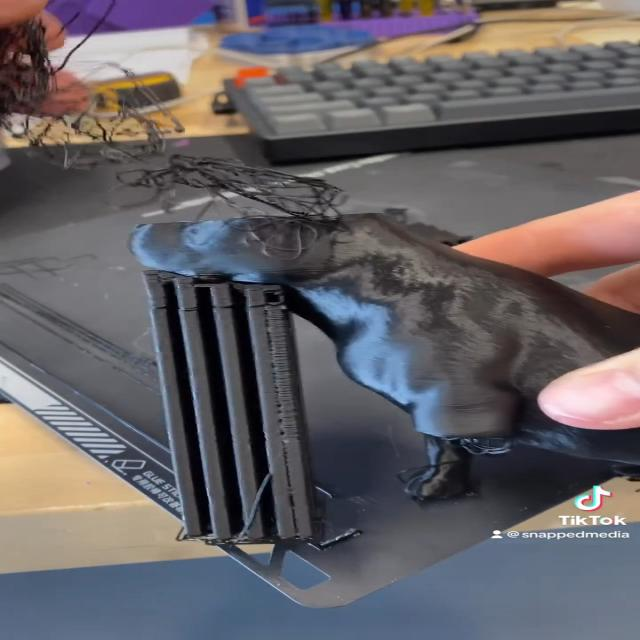spaghetti: (0, 4, 356, 230)
